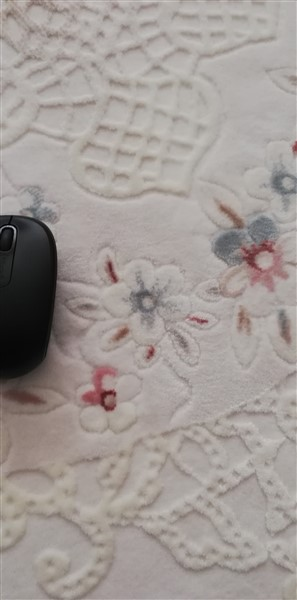mouse: (1, 209, 62, 389)
